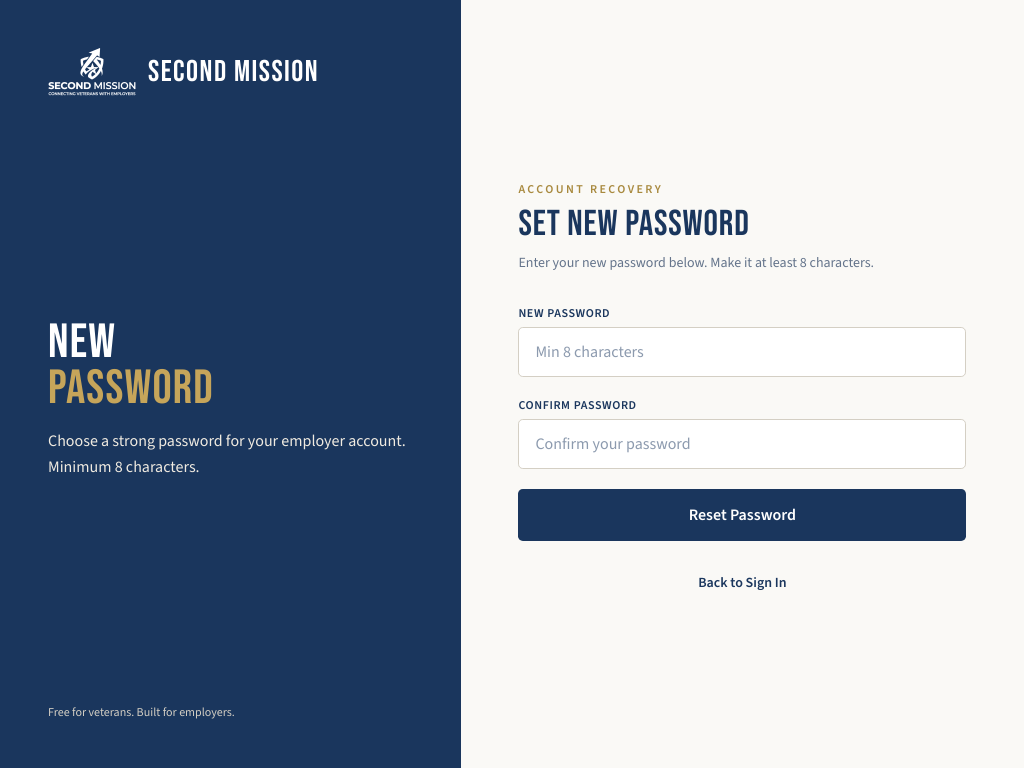
Test: EmployerResetPasswordPage › validates minimum password length
The image size is (1024, 768).
In the password field with placeholder "Min 8 characters": (742, 352) [518,326,966,376], type "short"
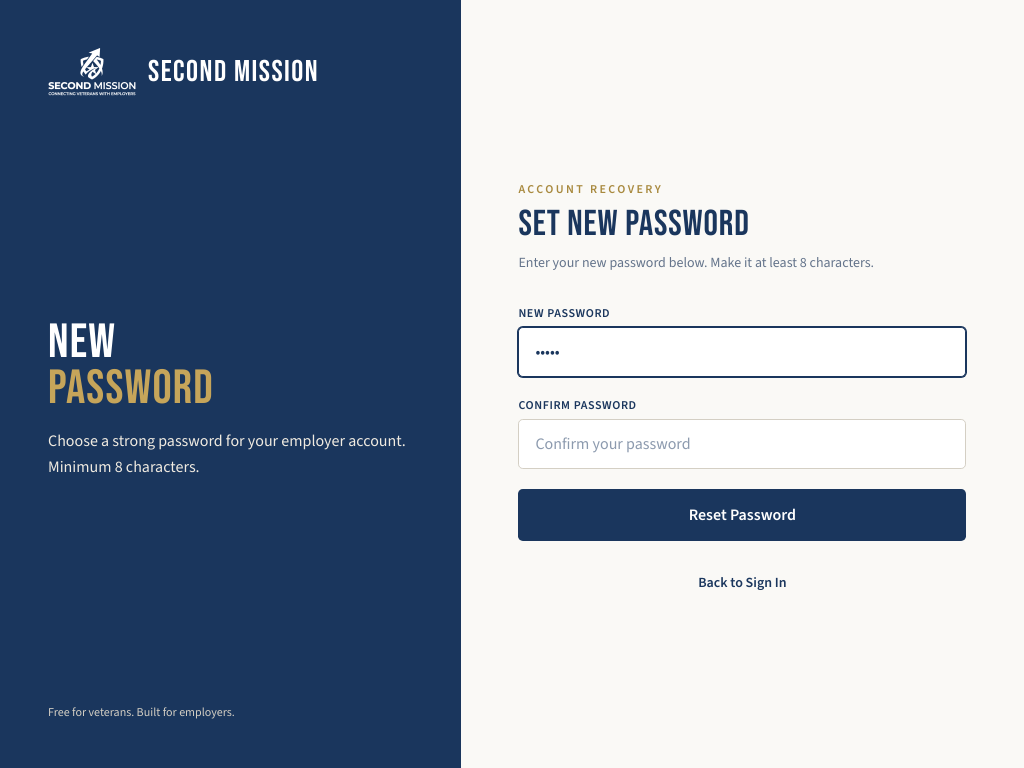
In the password field with placeholder "Confirm your password": (742, 444) [518,418,966,468], type "short"
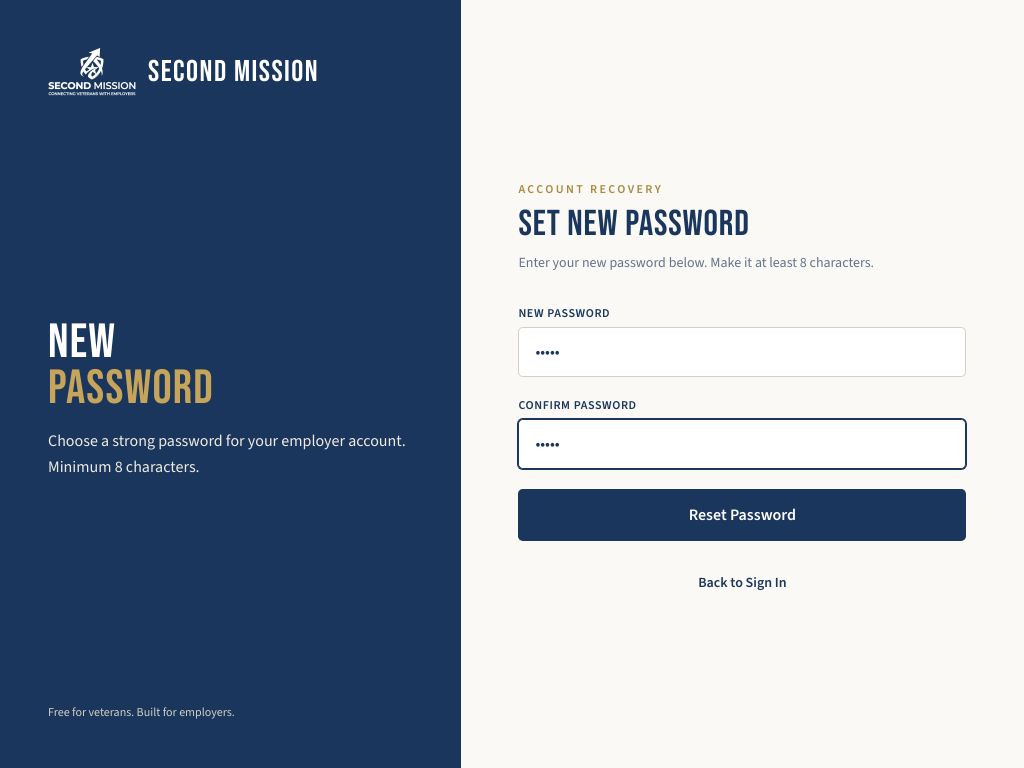
Click the button "Reset Password": (742, 514) [518,488,966,540]
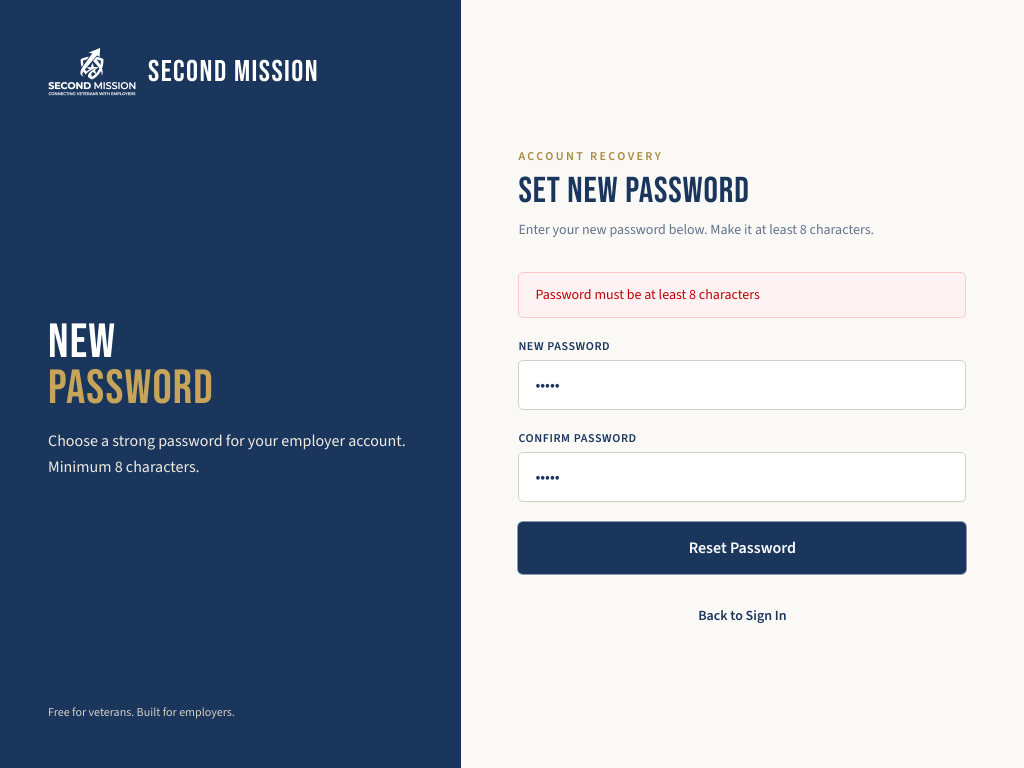
Result: the text "Password must be at least 8 characters" is shown at [518,272,966,318]
